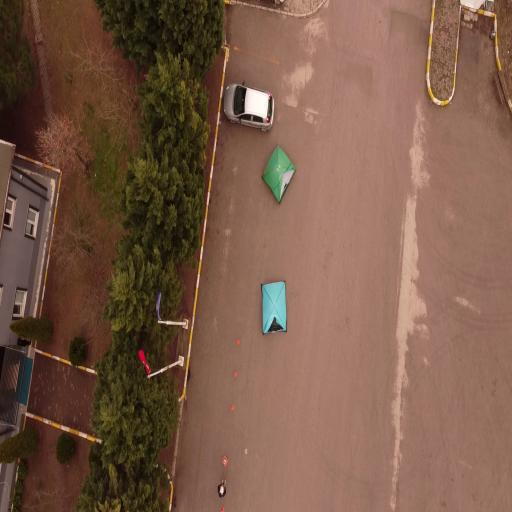tent: (259, 141, 298, 208), (258, 275, 289, 337)
